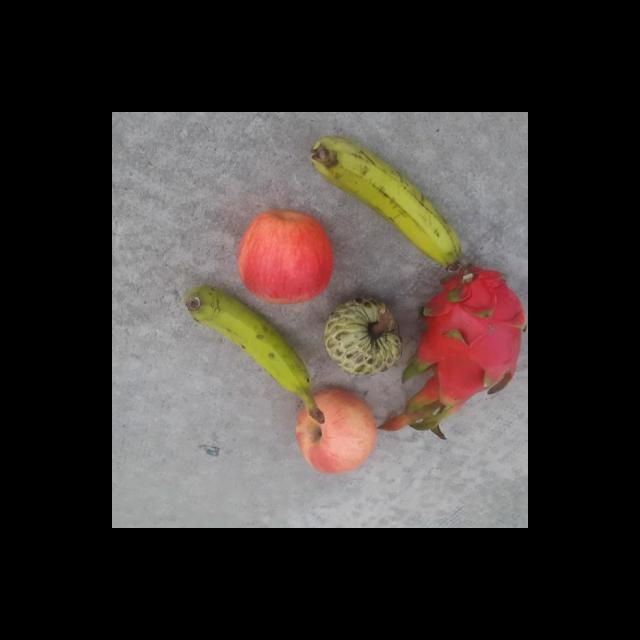Sakya fruit: (322, 294, 406, 379)
apple: (235, 208, 338, 304), (294, 386, 378, 476)
banana: (308, 136, 464, 274), (182, 286, 327, 424)
pitaya: (414, 262, 528, 414)
